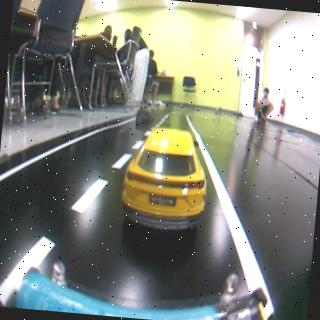car: (128, 128, 204, 228), (136, 106, 154, 124)
